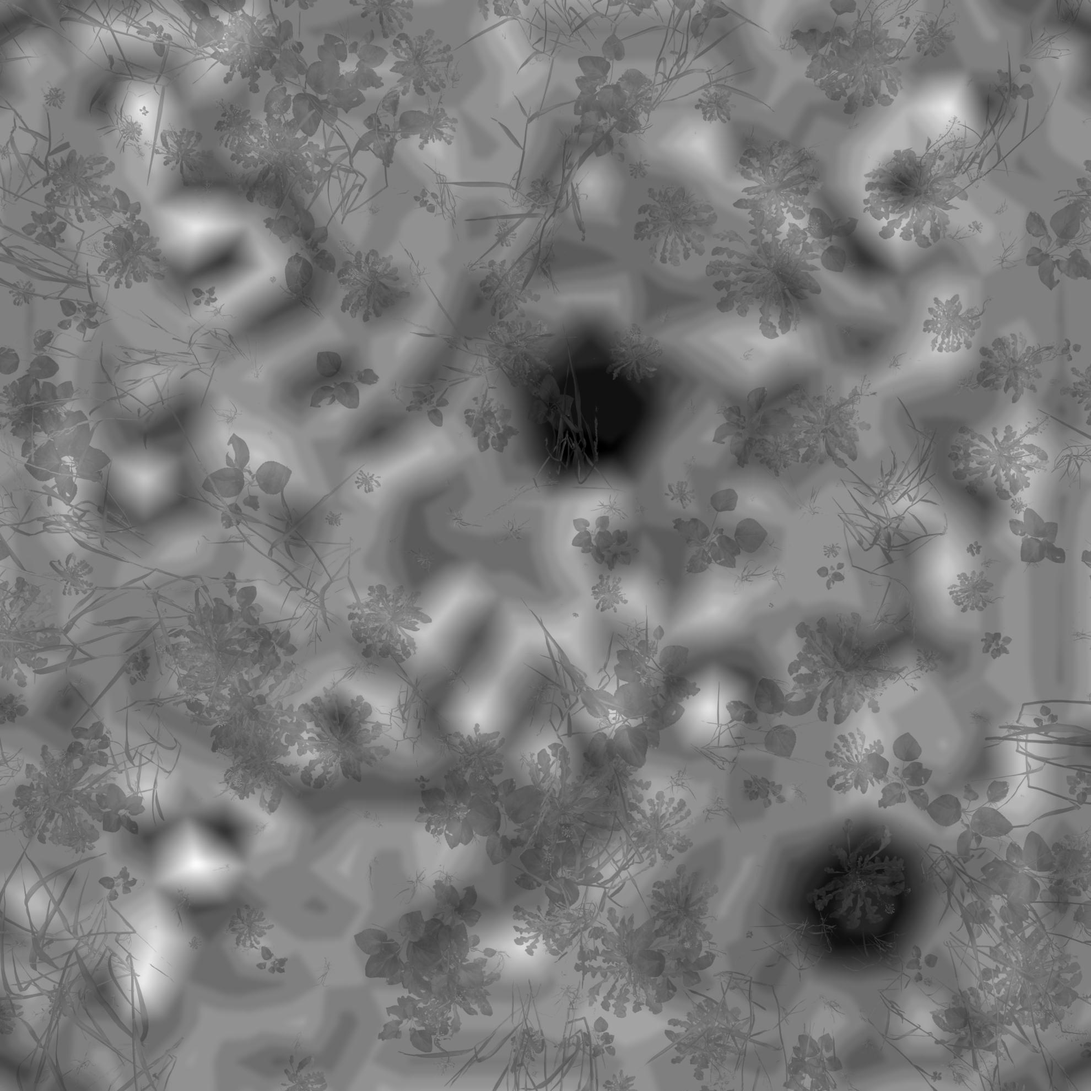landmine: (511, 333, 658, 491), (792, 821, 932, 971)
